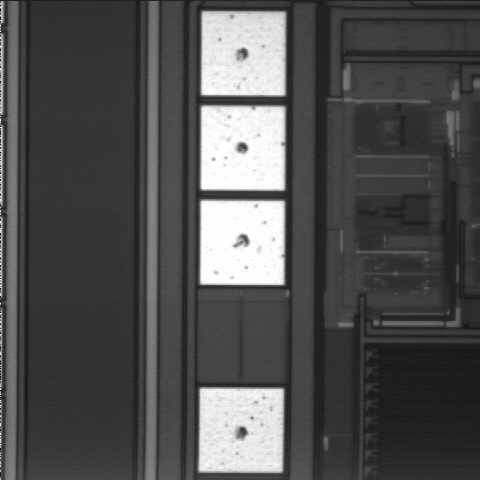pad: (200, 200, 285, 285), (199, 388, 284, 473), (201, 11, 285, 96), (201, 106, 285, 191)
